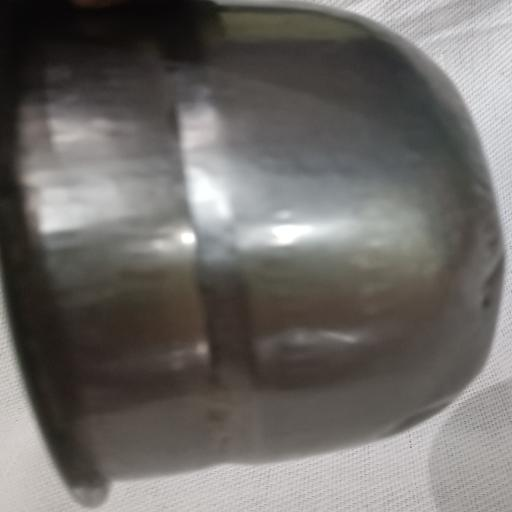vessel: (0, 7, 503, 504)
